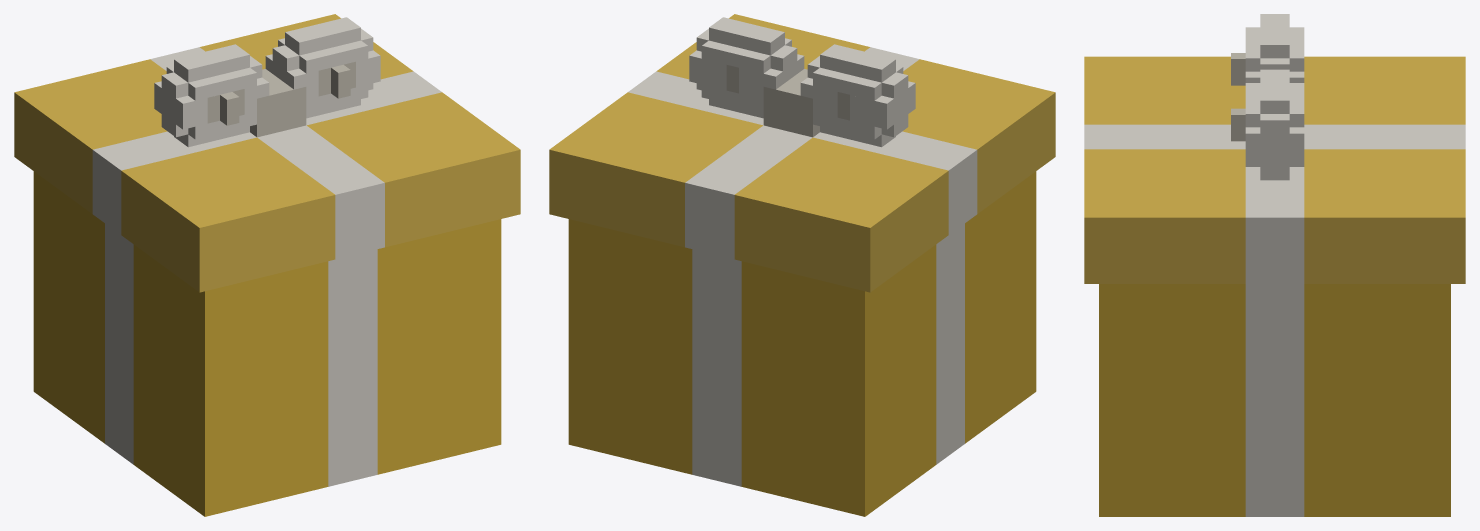
File: gift-yellow.glb
3 renders of one model, left to right at view 1: azimuth 30°, elevation 25°; view 2: azimuth 150°, elevation 25°; view 3: azimuth 270°, elevation 25°, orthographic. The views are drawn at different scales.
Visible parts, largest first — view 1: prop; view 2: prop; view 3: prop.
Part boxes in pixels (<box>): prop: <box>14,14,520,516</box>; prop: <box>549,14,1055,516</box>; prop: <box>1084,14,1465,516</box>.
Size of the model in its own units: 14.34 by 16 by 14.34.
